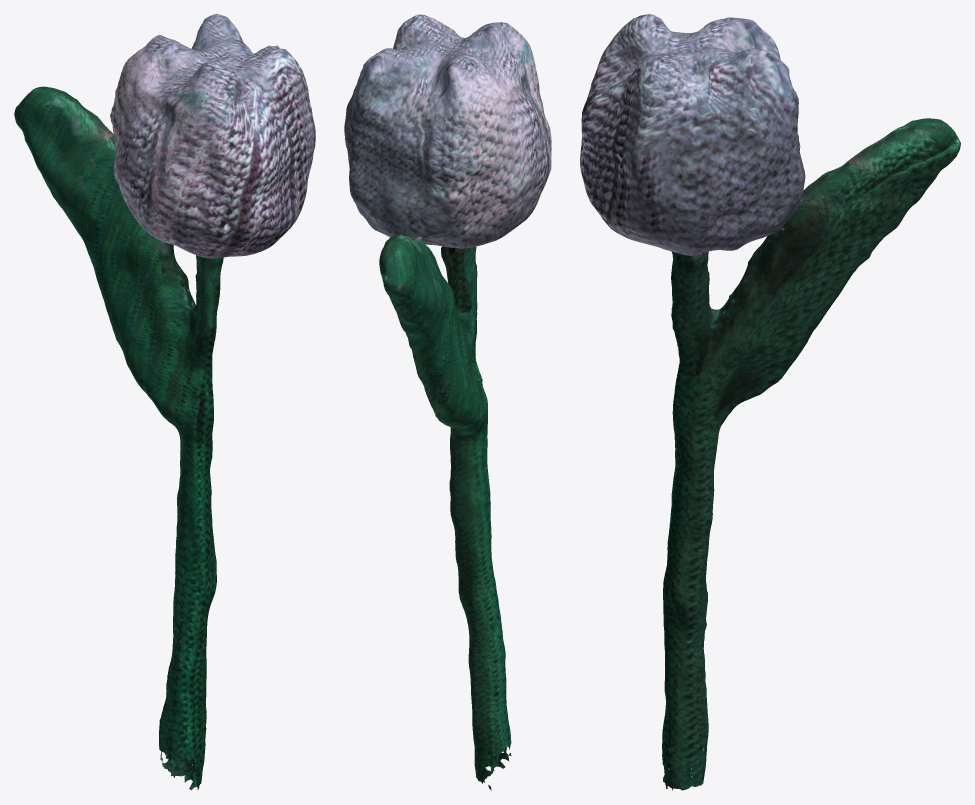
The model's file is tulip_single.glb.
3 views of the same model, side by side, from view 1: azimuth 30°, elevation 25°; view 2: azimuth 150°, elevation 25°; view 3: azimuth 270°, elevation 25° (orthographic). The views are drawn at different scales.
Visible parts, largest first — view 1: Tulip_Stem, Tulip_Petal; view 2: Tulip_Petal, Tulip_Stem; view 3: Tulip_Stem, Tulip_Petal.
Boxes of the visible parts, <box> form: Tulip_Stem: <box>14,86,223,790</box>; Tulip_Petal: <box>35,14,315,752</box>; Tulip_Petal: <box>344,14,551,743</box>; Tulip_Stem: <box>379,234,511,790</box>; Tulip_Stem: <box>662,118,960,790</box>; Tulip_Petal: <box>580,14,805,789</box>.
Bounding box in the file's own units: 0.4731 × 1.98 × 0.8744.
2 materials, 2 textured.
